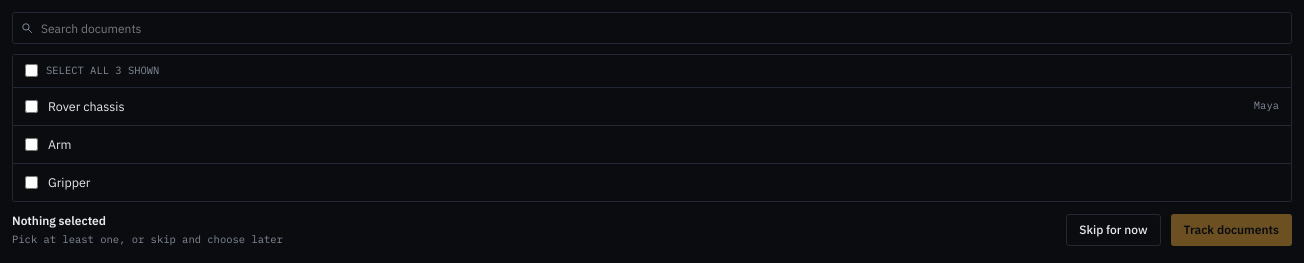
Test: connect variant › says so when a search matches nothing
Type "zzz" into the search field labelled "Search documents" at point(652, 28), box [12, 12, 1292, 44]
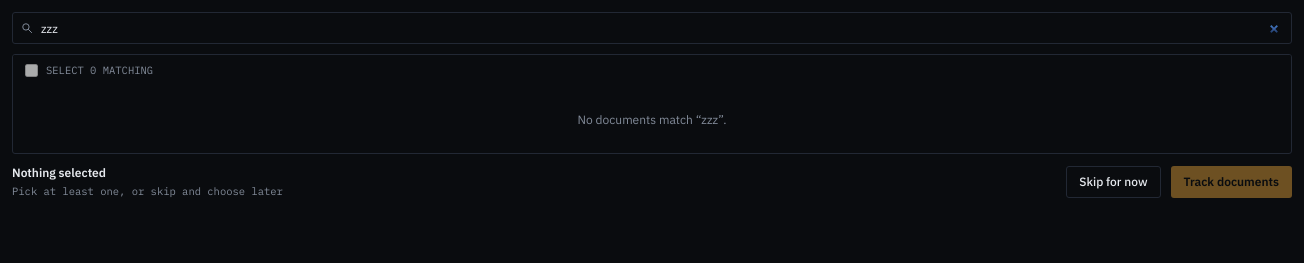
Check: the text "No documents match “zzz”." is shown, box [578, 112, 726, 127]
